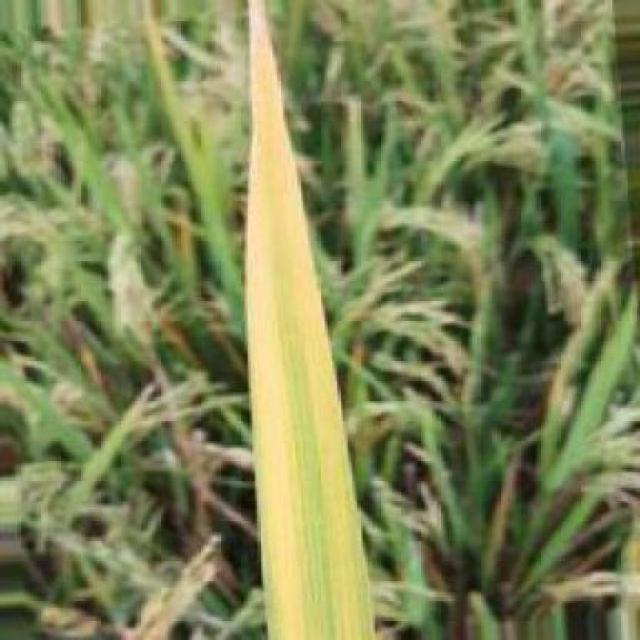Rice Tungro: (225, 2, 378, 638)
